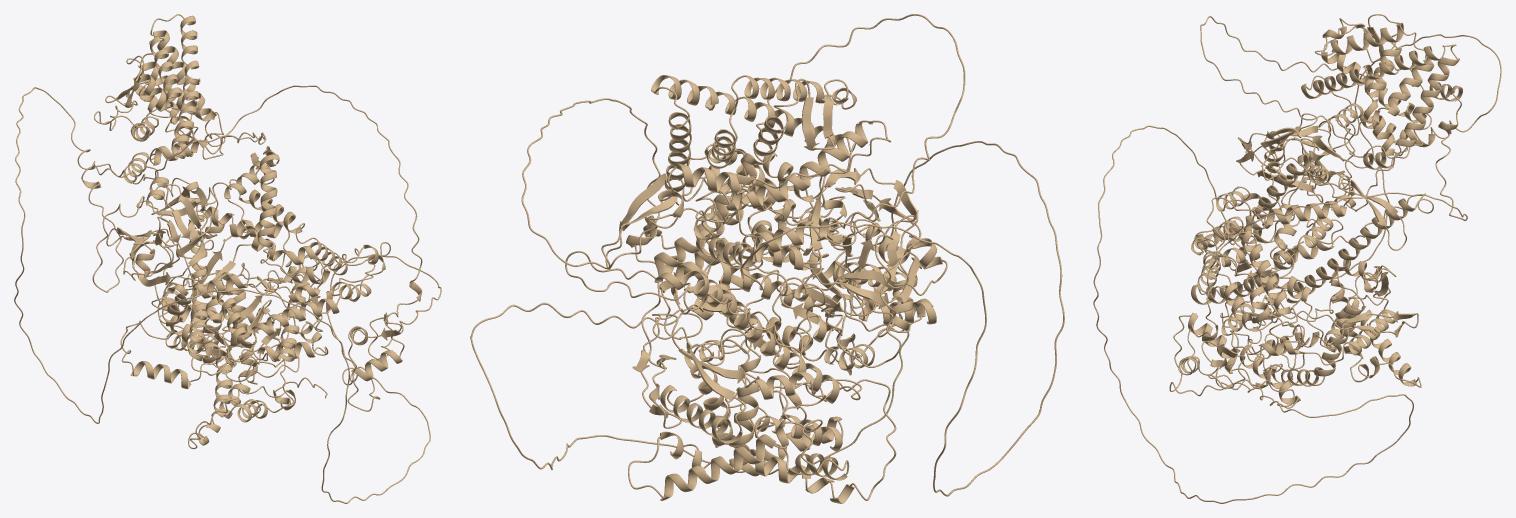
3 renders of one model, left to right at view 1: azimuth 30°, elevation 25°; view 2: azimuth 150°, elevation 25°; view 3: azimuth 270°, elevation 25°, orthographic. The views are drawn at different scales.
Size of the model in its own units: 136 by 133 by 120.
